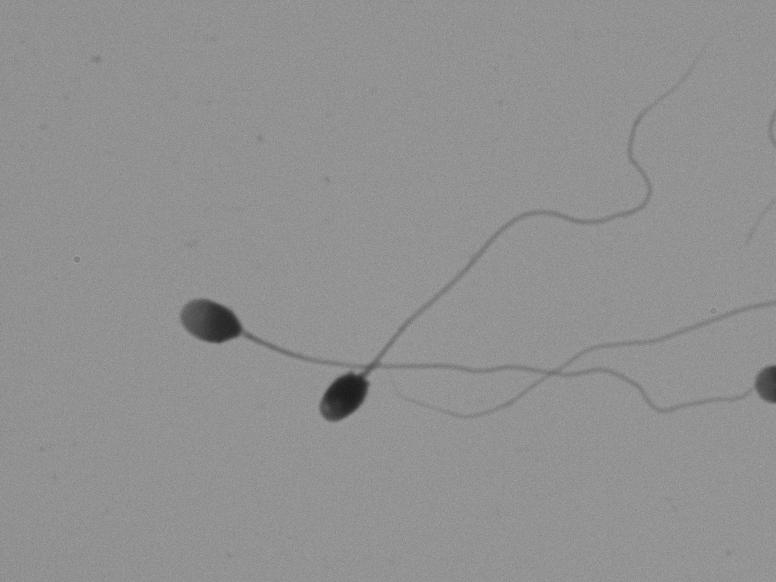Abnormal: (309, 24, 733, 451)
Normal: (121, 262, 338, 372)
